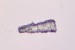microplastic: (17, 18, 58, 33)
